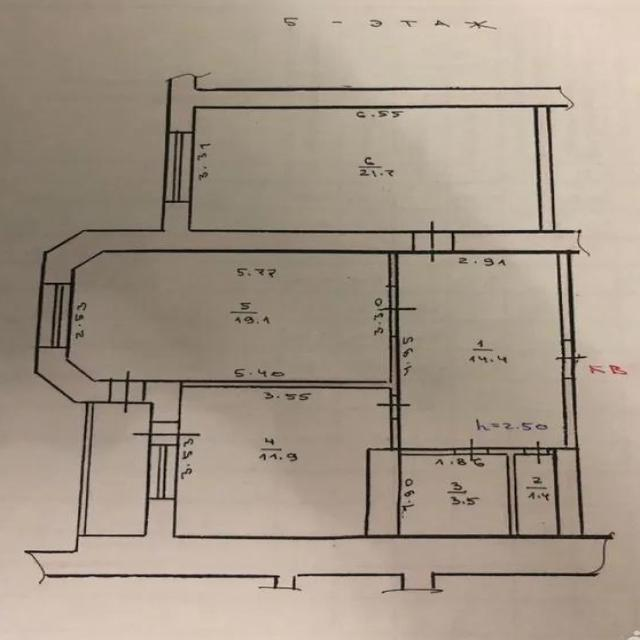Corridors: (400, 254, 564, 447), (400, 455, 509, 535), (86, 405, 150, 534), (517, 455, 557, 534)
Doors: (378, 286, 419, 338), (413, 220, 453, 263), (109, 369, 146, 415), (131, 423, 203, 445), (553, 340, 589, 378), (375, 395, 412, 419), (455, 437, 489, 462), (525, 439, 550, 465)
LBwalls: (23, 499, 618, 595), (41, 203, 413, 284), (165, 71, 578, 132), (34, 349, 110, 404), (452, 230, 587, 254), (366, 447, 399, 535), (556, 448, 584, 536), (143, 380, 183, 422)
Offices: (191, 108, 539, 230), (70, 254, 387, 380), (177, 387, 390, 535)
Walls: (182, 336, 399, 396), (488, 447, 525, 535), (534, 105, 556, 230), (78, 404, 94, 536), (558, 253, 575, 341), (562, 378, 580, 448), (387, 253, 399, 286), (401, 448, 455, 455), (391, 418, 401, 448), (549, 448, 554, 453)
Windows: (35, 283, 75, 348), (162, 131, 196, 203), (146, 444, 180, 501)
